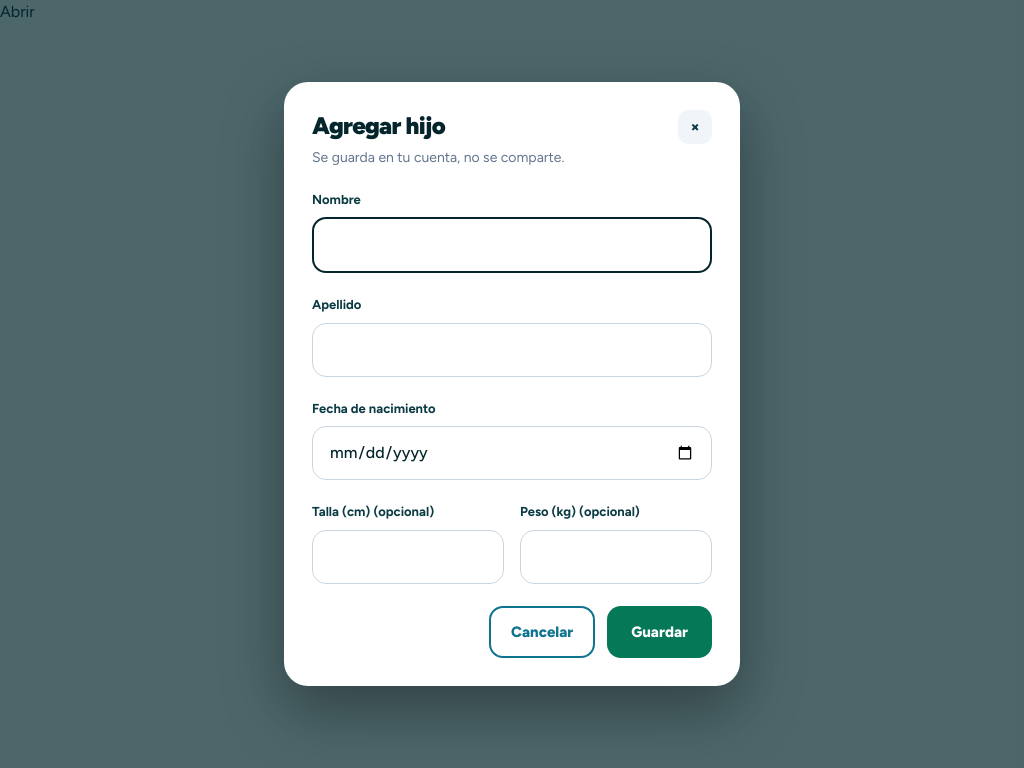
Test case: AddChildModal › turns "Guardar" into "Guardando…" and disables it while saving
Type "Luis" into the field labelled "Nombre" at (512, 245), box [312,217,712,273]
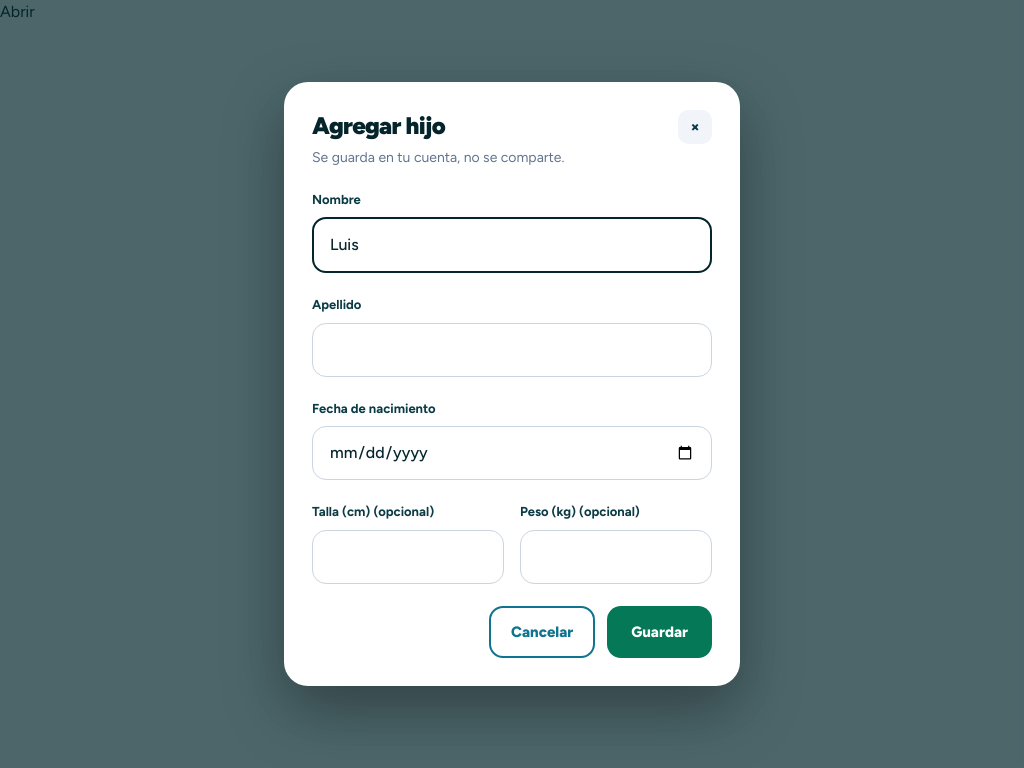
Type "Gómez" into the field labelled "Apellido" at (512, 350), box [312,323,712,377]
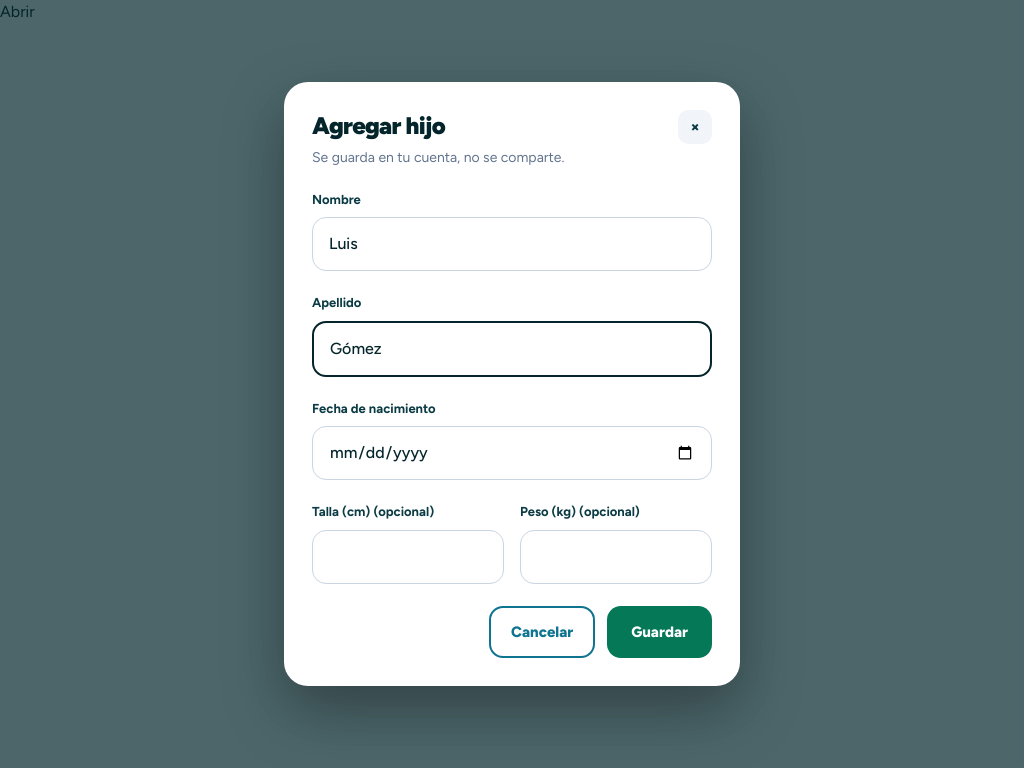
Type "2020-01-15" into the date field labelled "Fecha de nacimiento" at (512, 453), box [312,426,712,480]
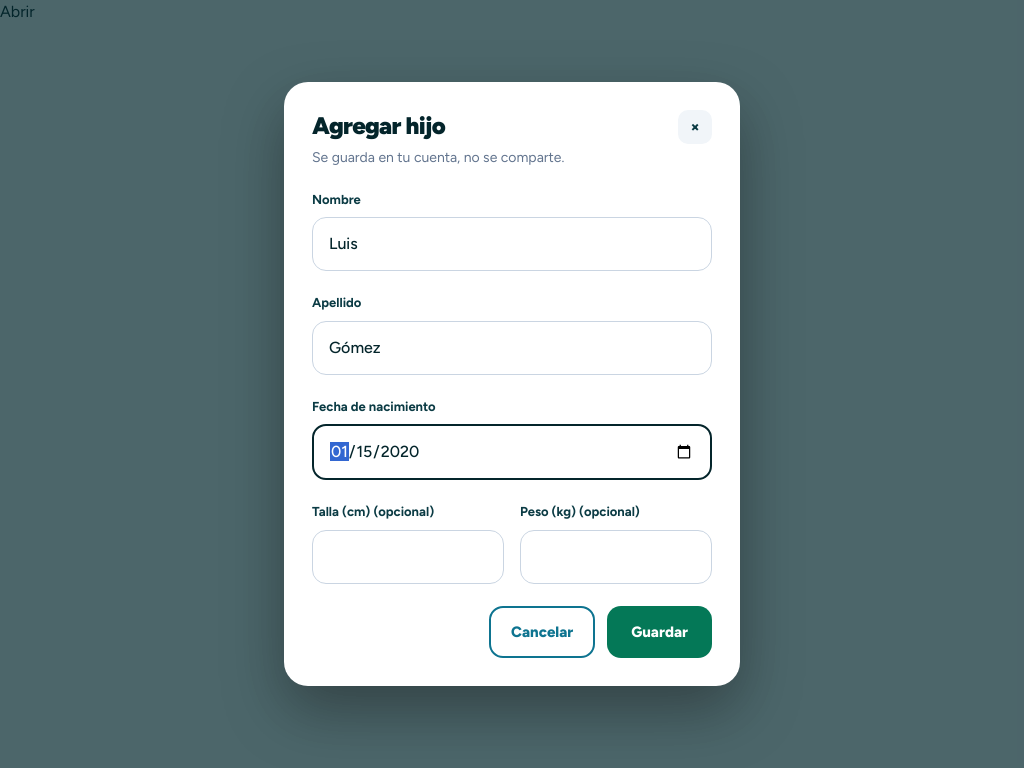
Click the button "Guardar" at (660, 632), box [607,606,712,658]
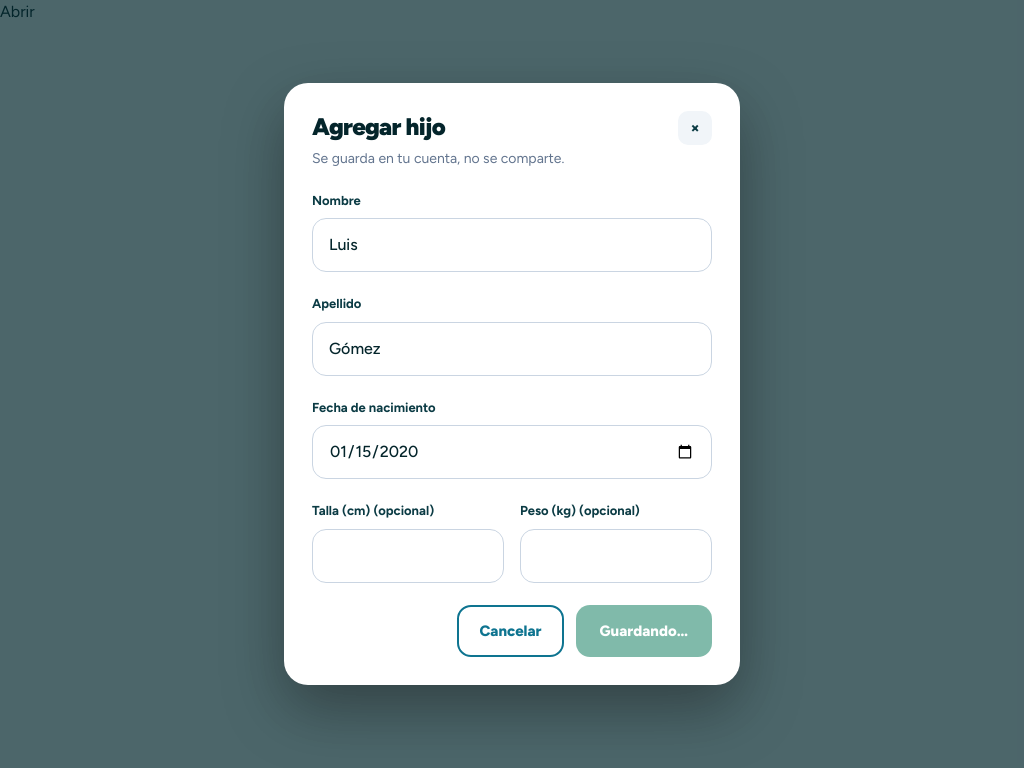
Expected: the button "Guardando…" is disabled, [576,605,712,657]
